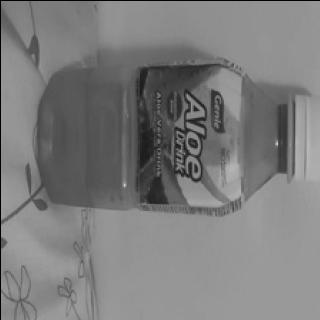plastic_bottles: (34, 58, 320, 215)
